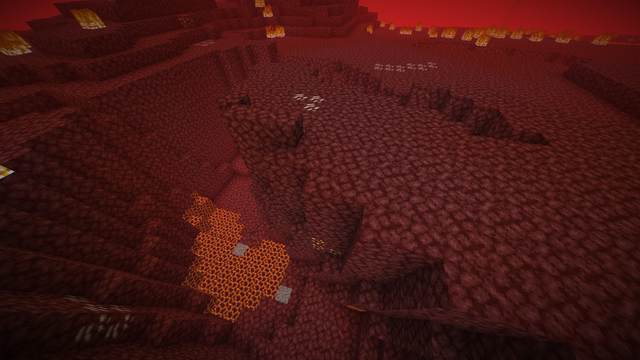nethergold: (310, 237, 343, 257)
quartz: (66, 294, 131, 342), (374, 58, 438, 74), (291, 91, 324, 114)
